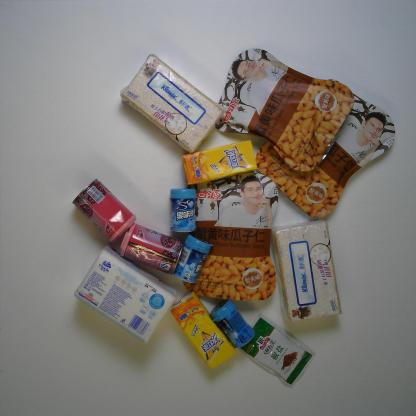Canned Food: (71, 177, 138, 243), (119, 222, 185, 276)
Dried Fruit: (255, 78, 396, 220), (214, 47, 356, 173), (181, 172, 280, 302)
Drink: (169, 290, 237, 372), (181, 139, 258, 186)
Gum: (209, 299, 257, 350), (173, 233, 214, 286), (169, 187, 197, 234)
Seasoner: (238, 312, 317, 388)
Tissue: (119, 52, 228, 154), (73, 242, 178, 344), (270, 219, 344, 324)
